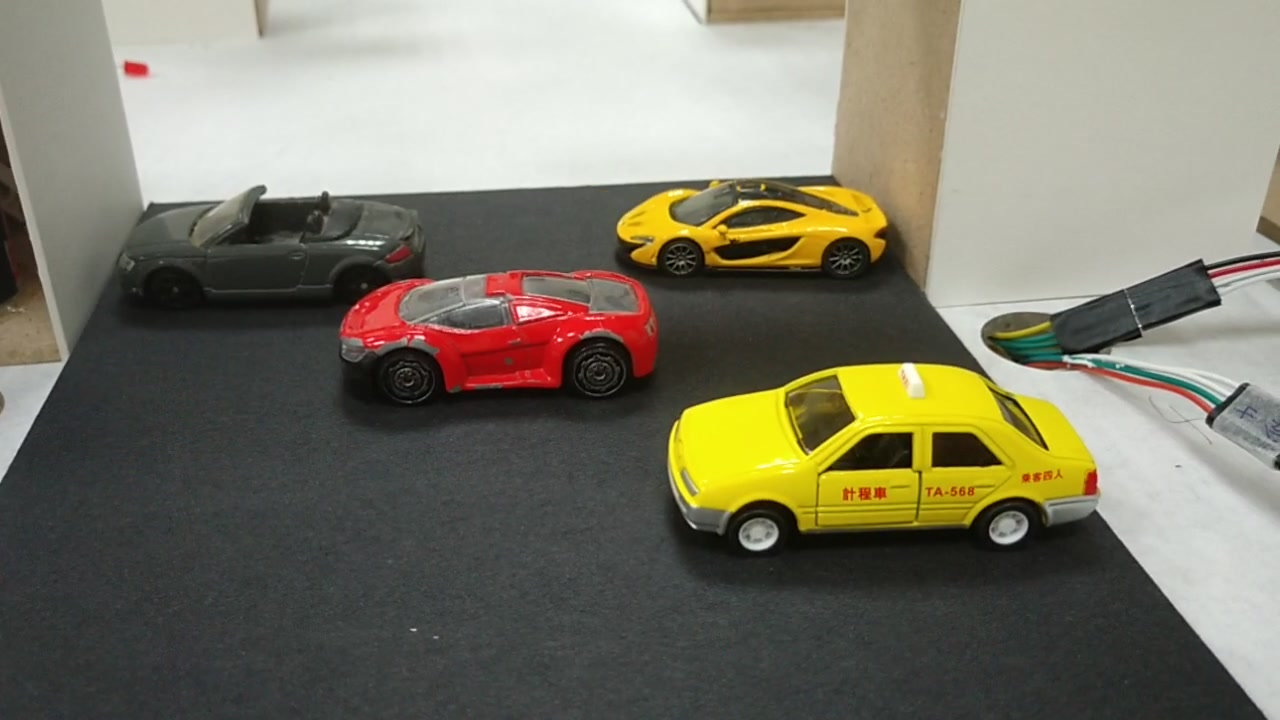car: (672, 363, 1099, 533), (331, 268, 658, 393), (114, 203, 422, 292), (618, 189, 889, 280)
